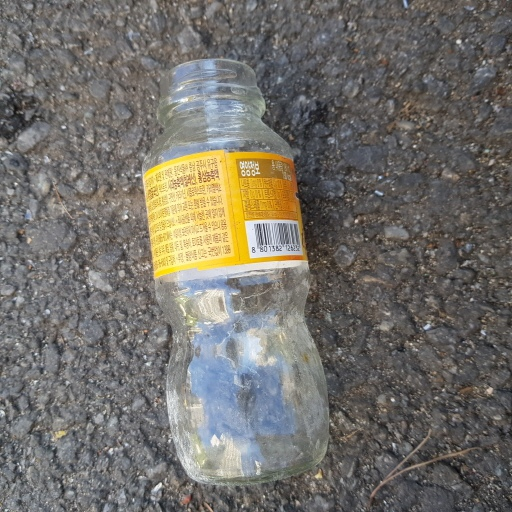Glass_4: (140, 59, 331, 486)
